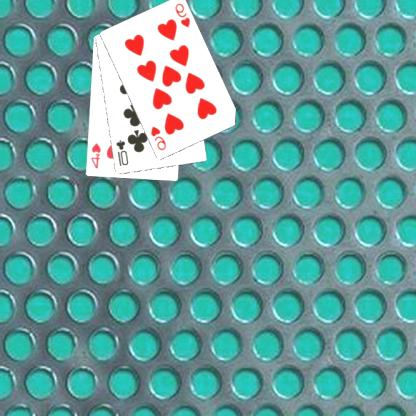10C: (115, 137, 131, 168)
4H: (89, 140, 104, 170)
9H: (150, 124, 169, 152), (174, 1, 193, 29)
